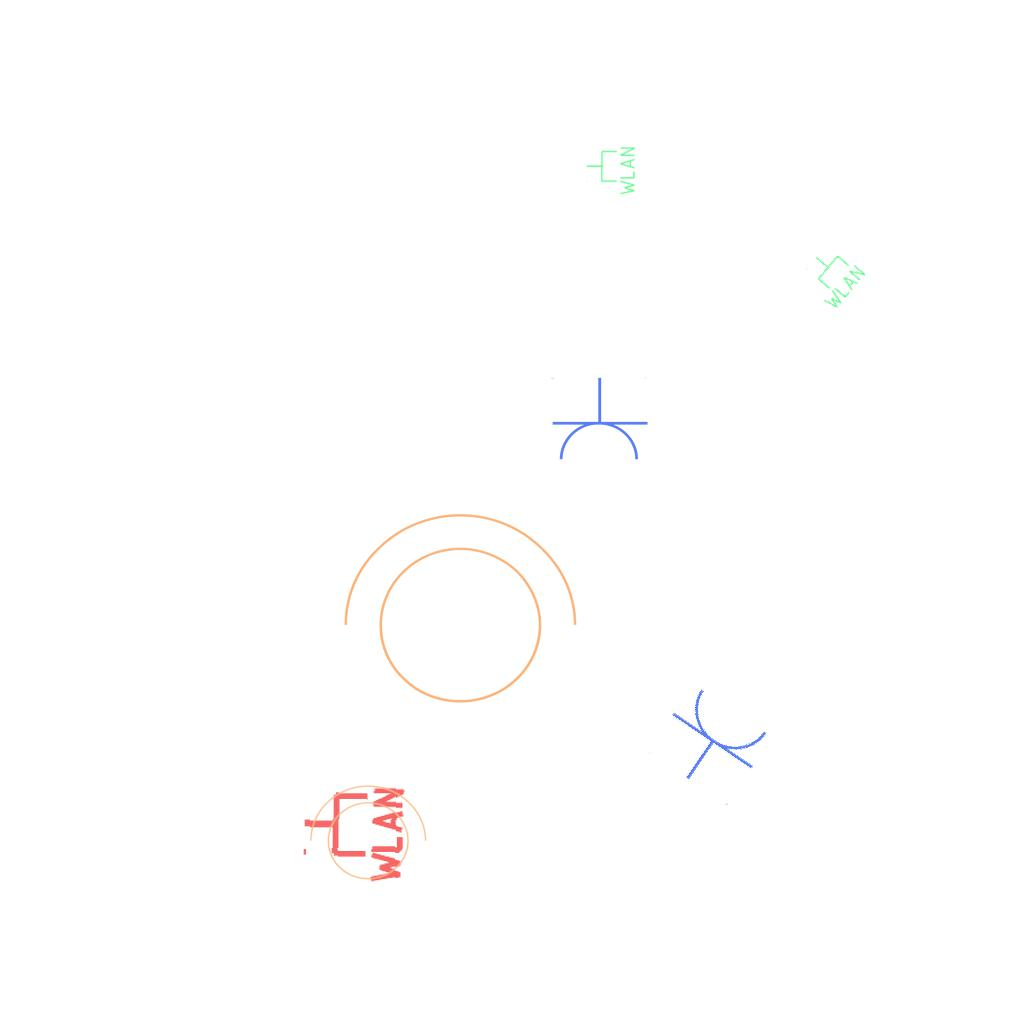Scheinwerfer_fuer_Alarmbeleuchtung: (322, 503, 586, 728), (299, 780, 431, 892)
Schukosteckdose_einfach: (646, 679, 778, 808), (549, 377, 649, 464)
WLAN: (298, 780, 407, 888), (795, 240, 869, 314), (585, 145, 637, 197)
